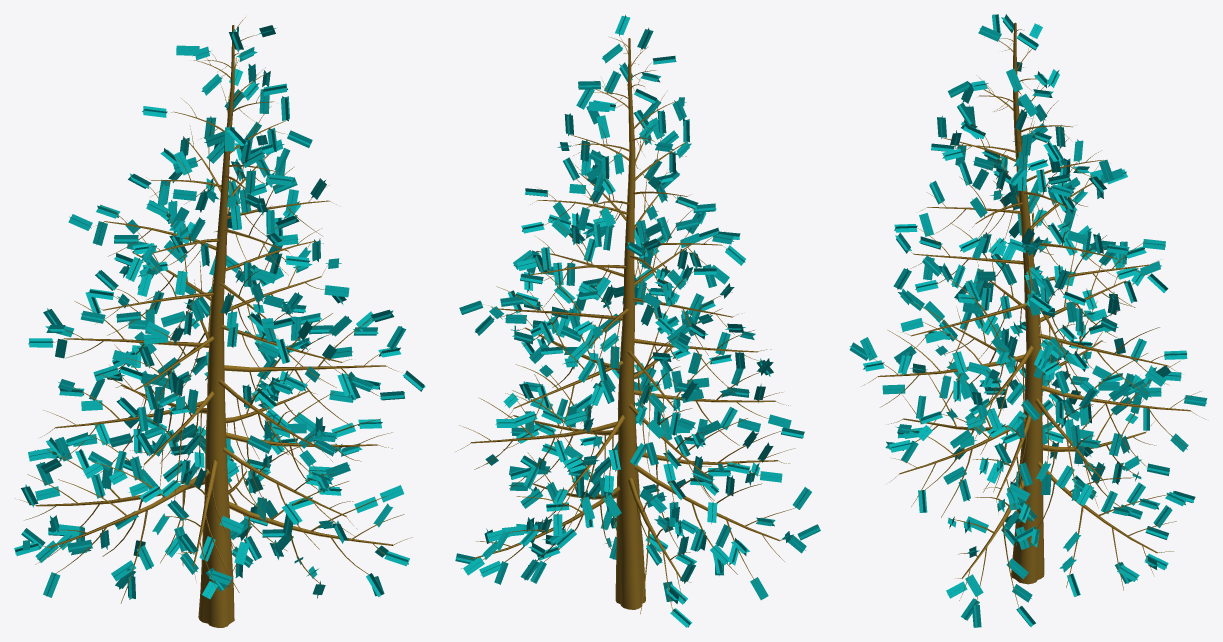
File: NewTree2.FBX
The picture shows the model from 3 angles, left to right: view 1: azimuth 30°, elevation 25°; view 2: azimuth 150°, elevation 25°; view 3: azimuth 270°, elevation 25°; orthographic projection. The views are drawn at different scales.
Parts seen in each view (by area): view 1: Foliage001; view 2: Foliage001; view 3: Foliage001.
Part boxes in pixels (<box>): Foliage001: <box>14,17,425,627</box>; Foliage001: <box>455,14,820,627</box>; Foliage001: <box>849,14,1207,627</box>.
Size of the model in its own units: 13.24 by 20.88 by 11.96.
